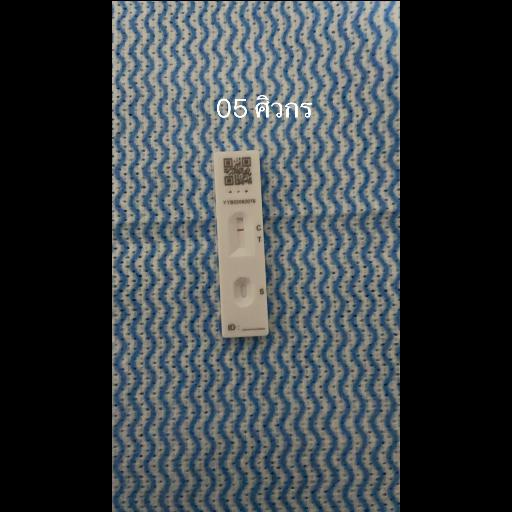Neg: (212, 149, 268, 337)
